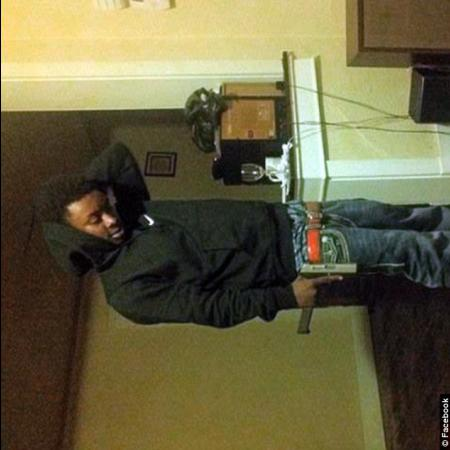Pistol: (292, 263, 360, 338)
